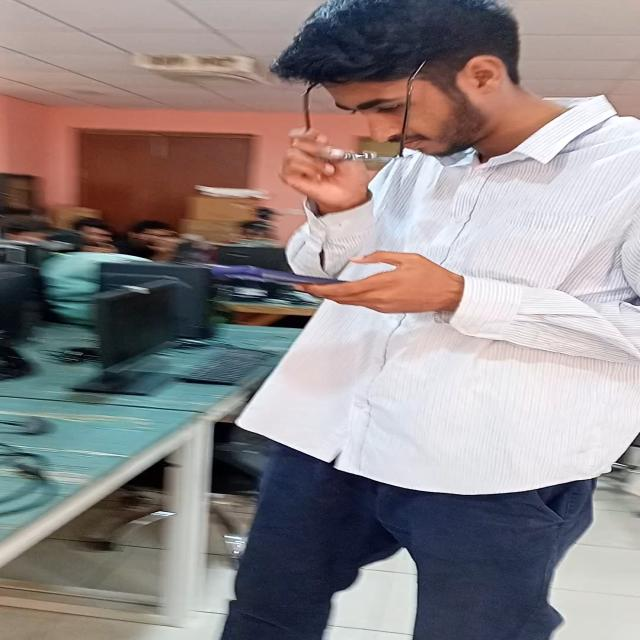dress: (214, 85, 638, 635)
glasses: (296, 79, 412, 163)
